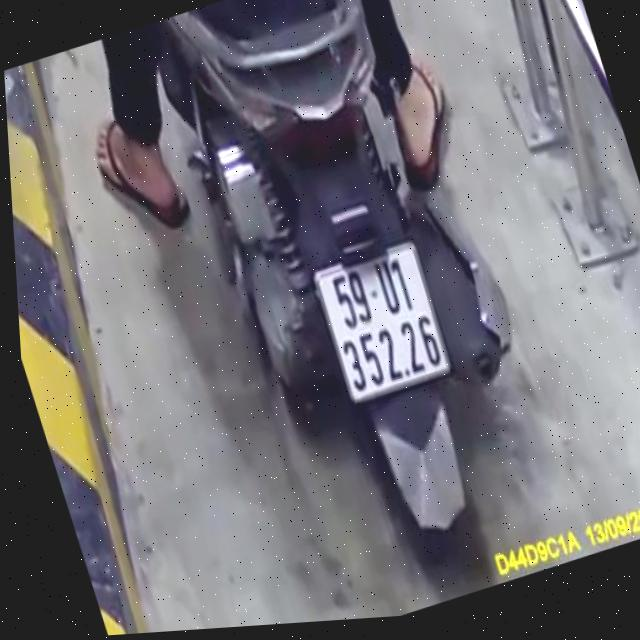motorcycle: (138, 0, 586, 623)
plate: (299, 225, 464, 415)
